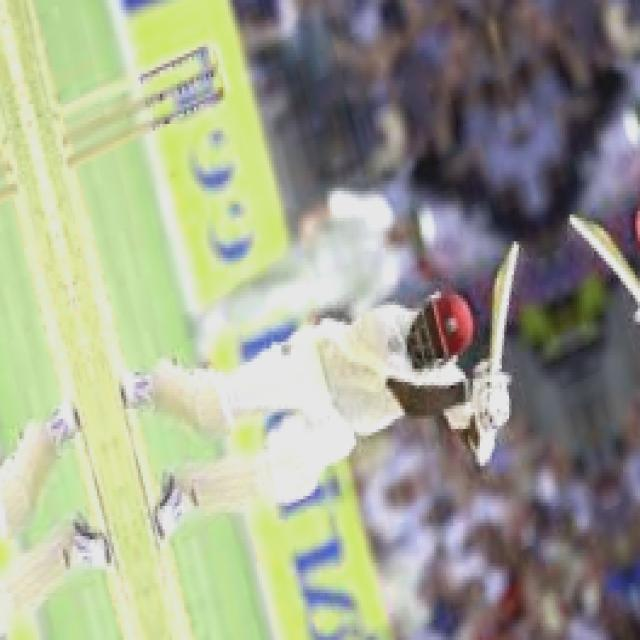toe: (489, 241, 524, 314)
